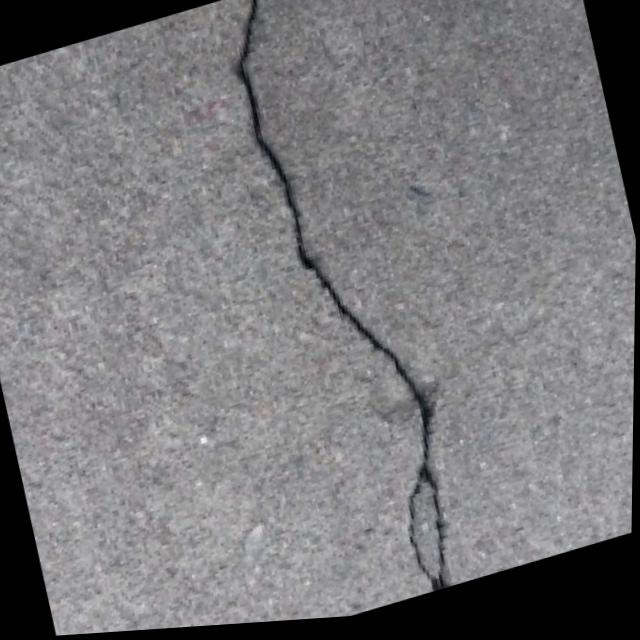Crack: (186, 0, 526, 630)
